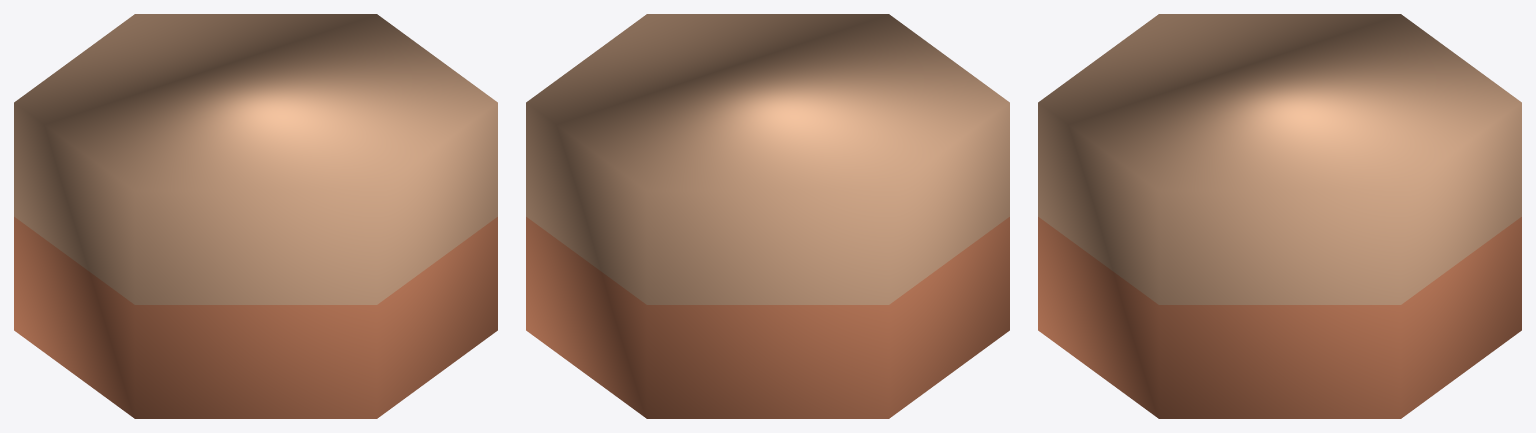
Rendered from hill_desert.glb.
3 views of the same model, side by side, from view 1: azimuth 30°, elevation 25°; view 2: azimuth 150°, elevation 25°; view 3: azimuth 270°, elevation 25° (orthographic).
Visible parts, largest first — view 1: sand; view 2: sand; view 3: sand.
Part boxes in pixels (box(x1,y1,x2,y2)): sand: box(14, 14, 497, 418); sand: box(526, 14, 1009, 418); sand: box(1038, 14, 1521, 418).
Size of the model in its own units: 1 by 0.6 by 1.15.
1 material, 1 textured.
